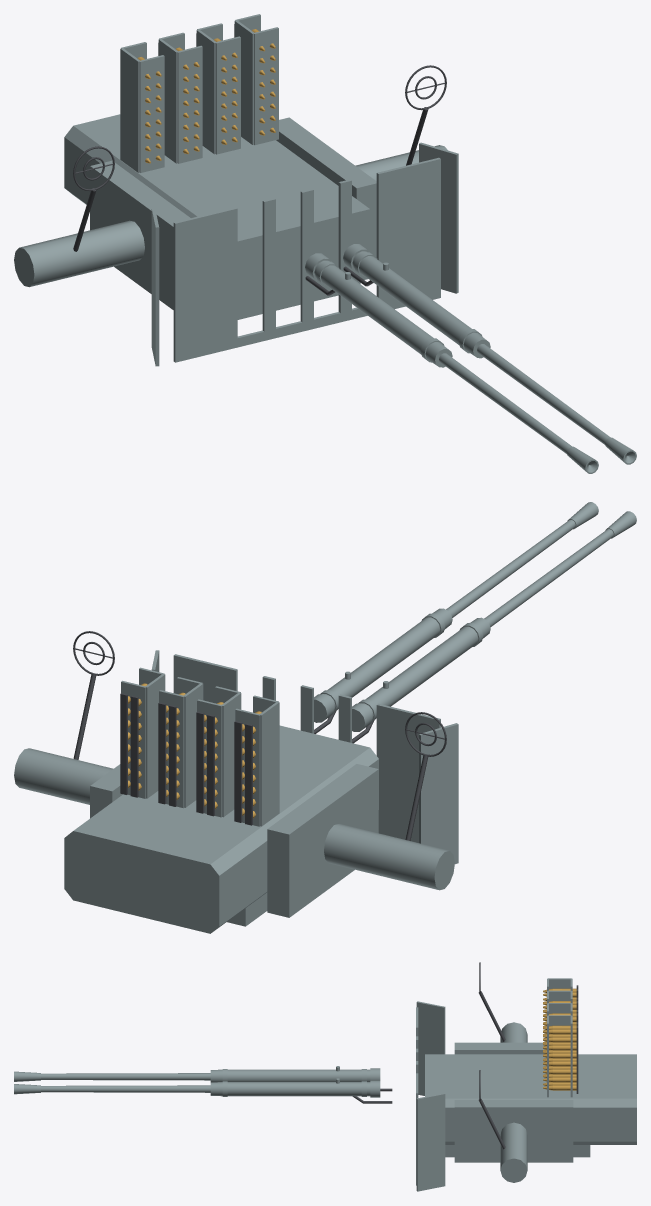
File: chicago_piano.obj
3 renders of one model, top to bottom at view 1: azimuth 30°, elevation 25°; view 2: azimuth 150°, elevation 25°; view 3: azimuth 270°, elevation 25°, orthographic. The views are drawn at different scales.
Parts seen in each view (by area): view 1: turret_0, yaw_0, barrel_0, turret_2, turret_1; view 2: turret_0, yaw_0, barrel_0, turret_2, turret_1; view 3: turret_0, barrel_0, yaw_0, turret_1, turret_2.
Part boxes in pixels (x1,y1,x2,y2): turret_0: [14, 14, 447, 319]; yaw_0: [151, 142, 458, 366]; barrel_0: [305, 244, 636, 473]; turret_2: [73, 24, 446, 251]; turret_1: [137, 29, 275, 163]; turret_0: [14, 667, 454, 933]; yaw_0: [151, 650, 458, 864]; barrel_0: [314, 502, 636, 731]; turret_2: [73, 631, 446, 840]; turret_1: [128, 683, 261, 818]; turret_0: [425, 978, 636, 1182]; barrel_0: [14, 1066, 380, 1097]; yaw_0: [416, 1001, 445, 1191]; turret_1: [543, 988, 576, 1090]; turret_2: [478, 962, 578, 1149].
Size of the model in its own units: 1.9 by 0.92 by 3.67.
